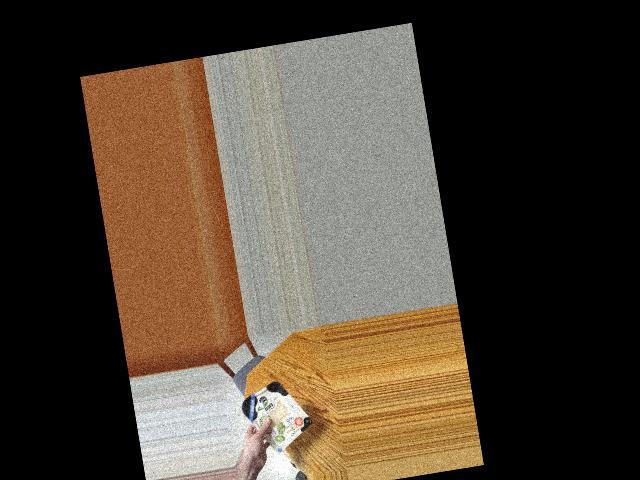cheese: (237, 372, 309, 448)
